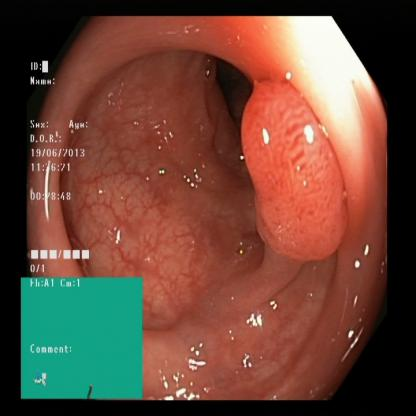Labels: (26, 58, 103, 274), (20, 278, 146, 401)
Polyps: (240, 68, 352, 273)
